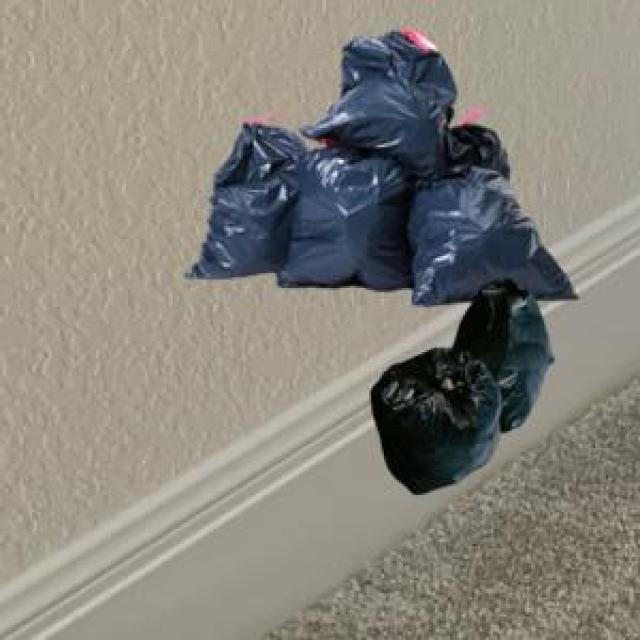Trashbag: (319, 28, 463, 173), (188, 115, 301, 294), (420, 168, 548, 304), (293, 152, 413, 296), (378, 352, 497, 491), (488, 286, 555, 430)
